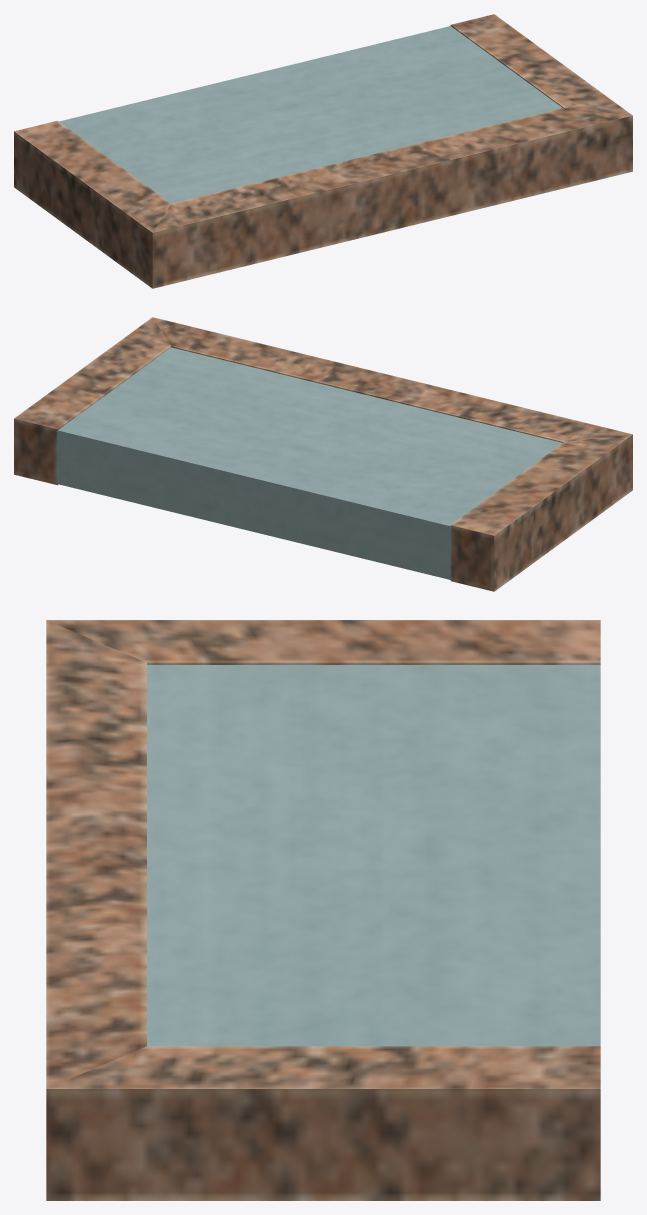
The model's file is set_base_b_04.fbx.
3 views of the same model, one above another, from view 1: azimuth 30°, elevation 25°; view 2: azimuth 150°, elevation 25°; view 3: azimuth 270°, elevation 25° (orthographic). The views are drawn at different scales.
Parts seen in each view (by area): view 1: set_base_b_04; view 2: set_base_b_04; view 3: set_base_b_04.
Boxes of the visible parts, bbox=[...] form: set_base_b_04: bbox=[14, 14, 632, 288]; set_base_b_04: bbox=[14, 317, 632, 591]; set_base_b_04: bbox=[46, 620, 600, 1200].
Bounding box in the file's own units: 110 × 12.25 × 55.
